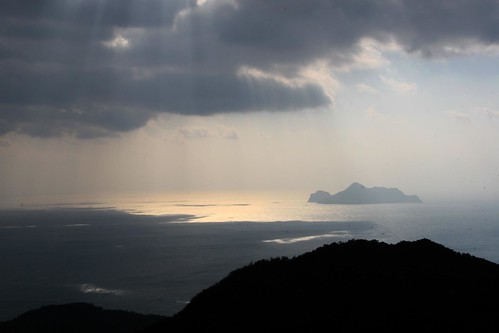turtleIslandLeft: (309, 181, 421, 203)
